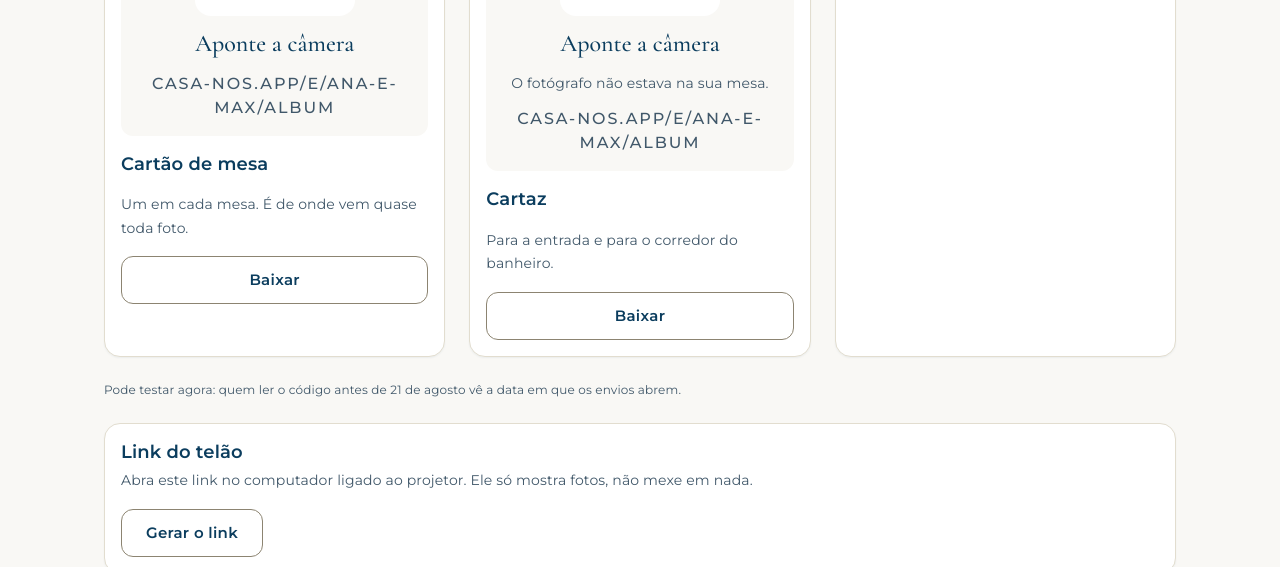
Test: Painel — o código para imprimir › o casal gera o link do telão, e o endereço aparece UMA vez
(page scrolled)
Click the button "Gerar o link": point(192, 533) x1=121 y1=509 x2=263 y2=557
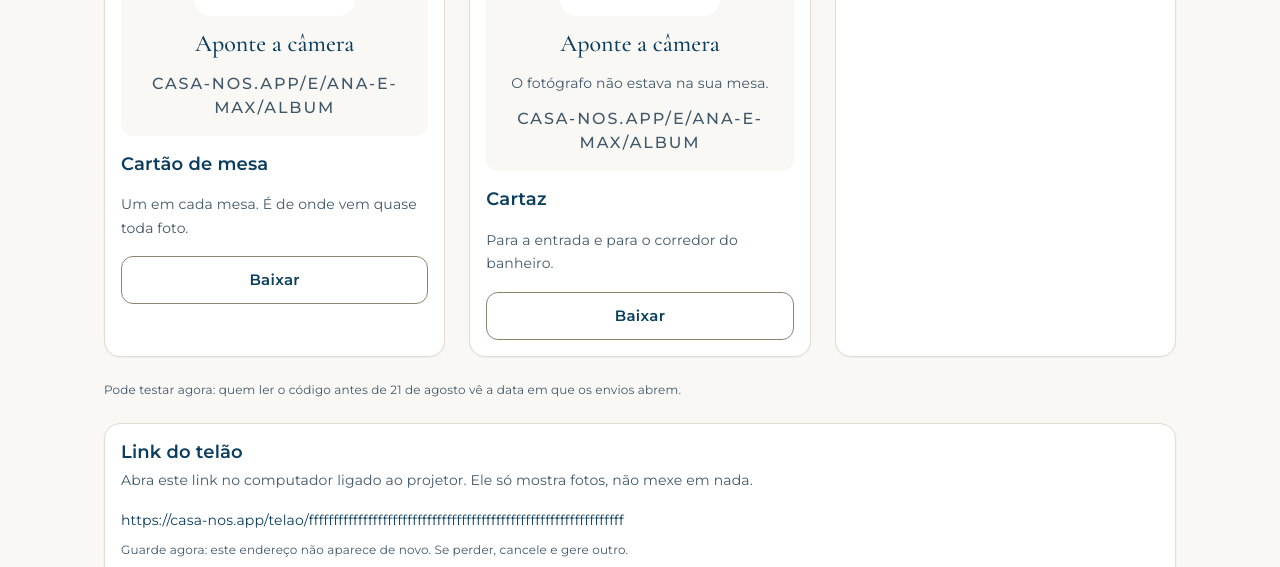
Expected: the text "não aparece de novo" is shown, x1=121 y1=542 x2=628 y2=557
